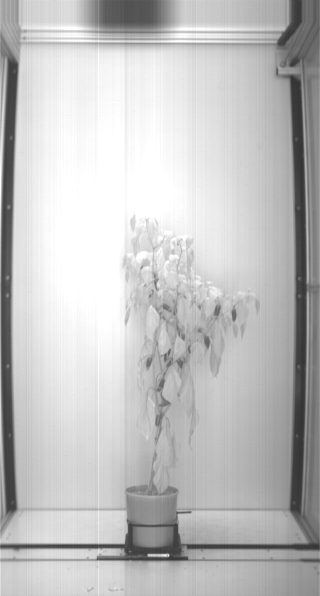bell-pepper fooled_you: (156, 374, 164, 393), (161, 302, 173, 314), (203, 334, 212, 349), (212, 302, 220, 317), (155, 408, 161, 427), (145, 355, 152, 370), (231, 304, 236, 322), (175, 357, 183, 368)
